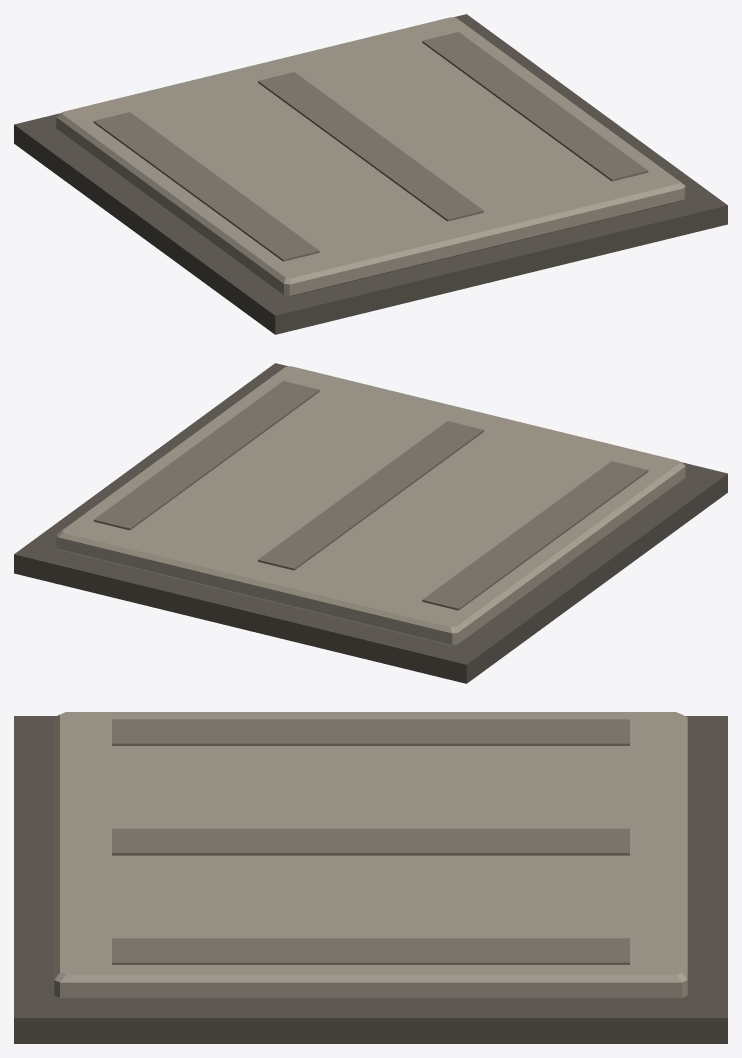
Rendered from SM_Trap_Piastra.glb.
3 renders of one model, top to bottom at view 1: azimuth 30°, elevation 25°; view 2: azimuth 150°, elevation 25°; view 3: azimuth 270°, elevation 25°, orthographic. The views are drawn at different scales.
Parts seen in each view (by area): view 1: Plate, SM_Trap_Piastra; view 2: Plate, SM_Trap_Piastra; view 3: Plate, SM_Trap_Piastra.
Boxes of the visible parts, x1,y1,x2,y2 form: Plate: (56, 17, 685, 296); SM_Trap_Piastra: (14, 14, 727, 334); Plate: (56, 366, 685, 645); SM_Trap_Piastra: (14, 363, 727, 683); Plate: (54, 712, 687, 999); SM_Trap_Piastra: (14, 716, 727, 1043).
Bounding box in the file's own units: 1.24 × 0.1 × 1.24.
1 material, 1 textured.
